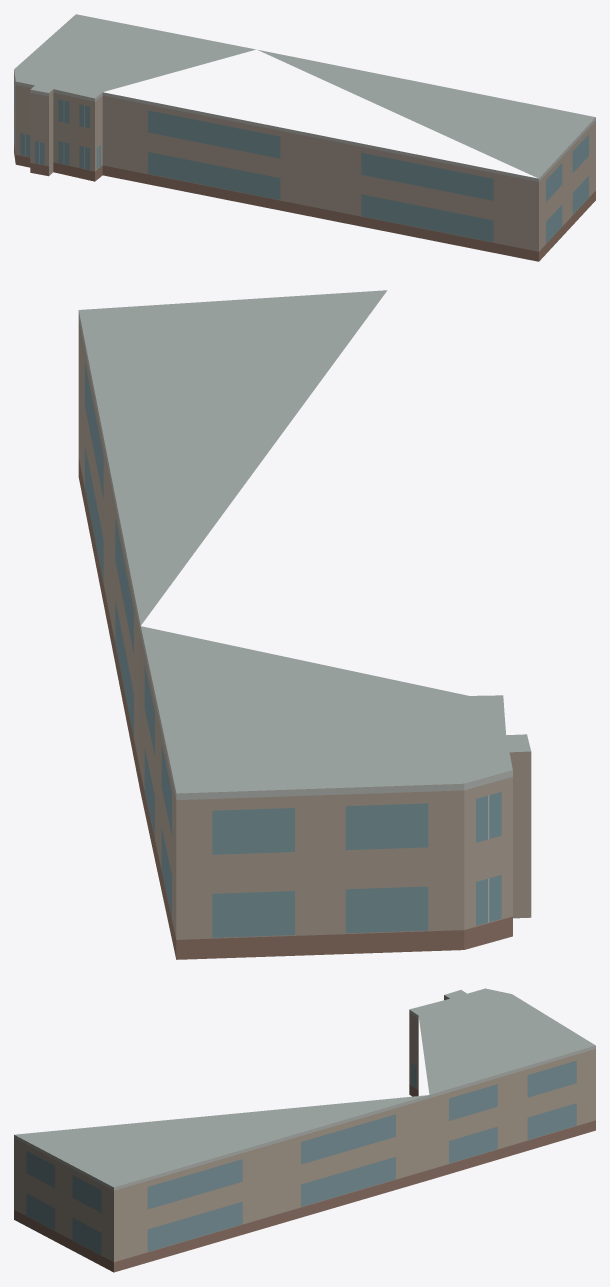
The model's file is survey-upis-32724876.glb.
3 views of the same model, one above another, from view 1: azimuth 30°, elevation 25°; view 2: azimuth 150°, elevation 25°; view 3: azimuth 270°, elevation 25° (orthographic). The views are drawn at different scales.
Visible parts, largest first — view 1: survey-upis-32724876.tmp; view 2: survey-upis-32724876.tmp; view 3: survey-upis-32724876.tmp.
Boxes of the visible parts, left/top/right/bottom form: survey-upis-32724876.tmp: left=14, top=14, right=595, bottom=261; survey-upis-32724876.tmp: left=78, top=290, right=531, bottom=959; survey-upis-32724876.tmp: left=14, top=988, right=595, bottom=1272.
Size of the model in its own units: 30.63 by 6.1 by 37.84.
